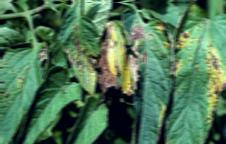Tomato leaf bacterial spot: (164, 0, 226, 144), (125, 10, 173, 144), (0, 38, 47, 144), (59, 0, 97, 99)
